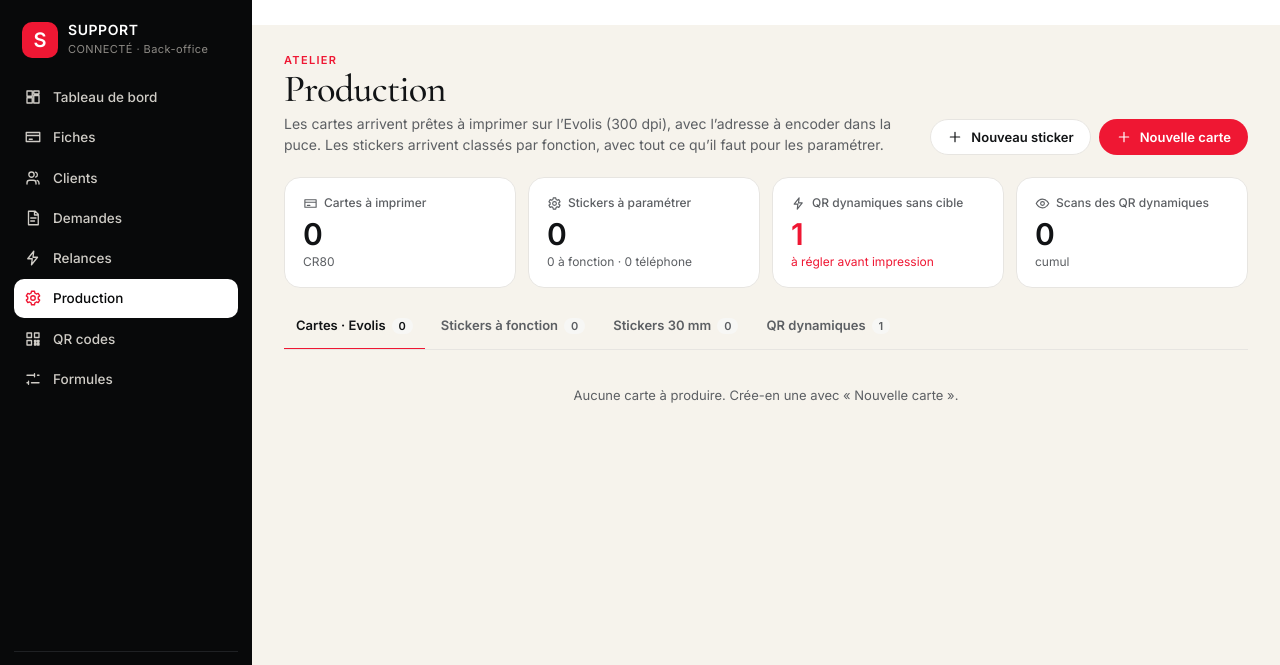
Test: pages du back-office › ouvre les QR codes depuis la production avec le lien dynamique prérempli
This screenshot has width=1280, height=665.
Click the tab "QR dynamiques 1" at (828,327), box [754,304,902,350]
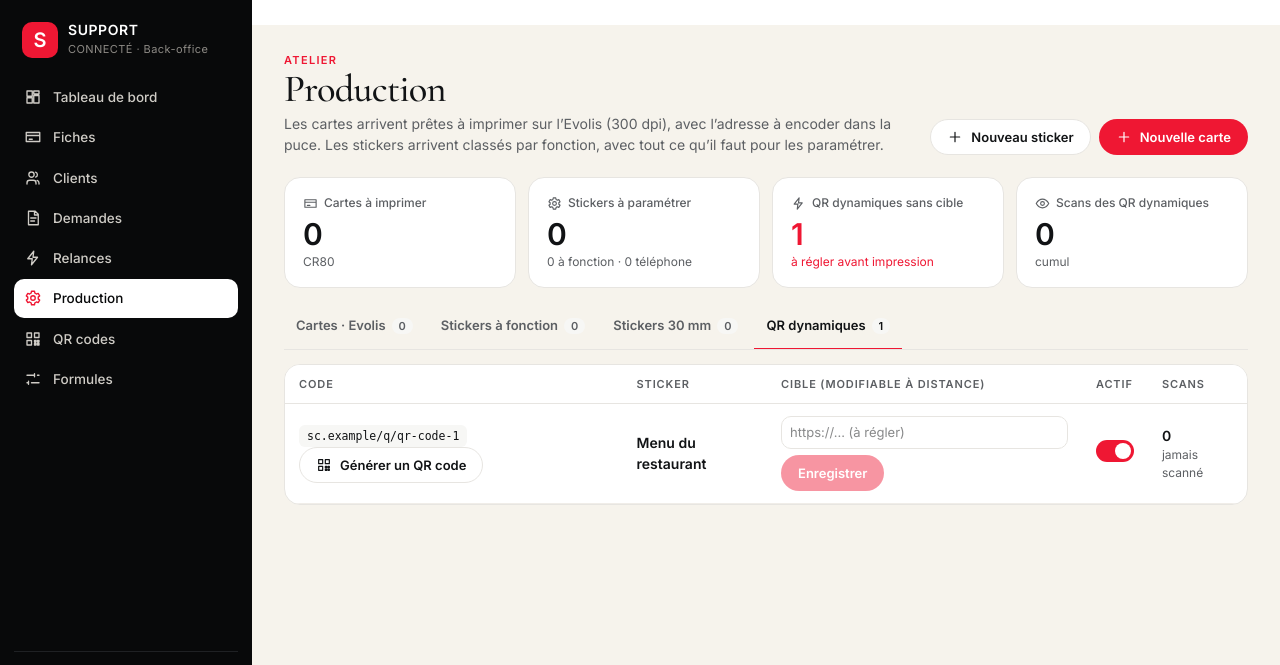
Expected: the text "Menu du restaurant" is shown, [637,434,706,472]
Click the link "Générer un QR code" at (391,465), box [299,447,483,483]
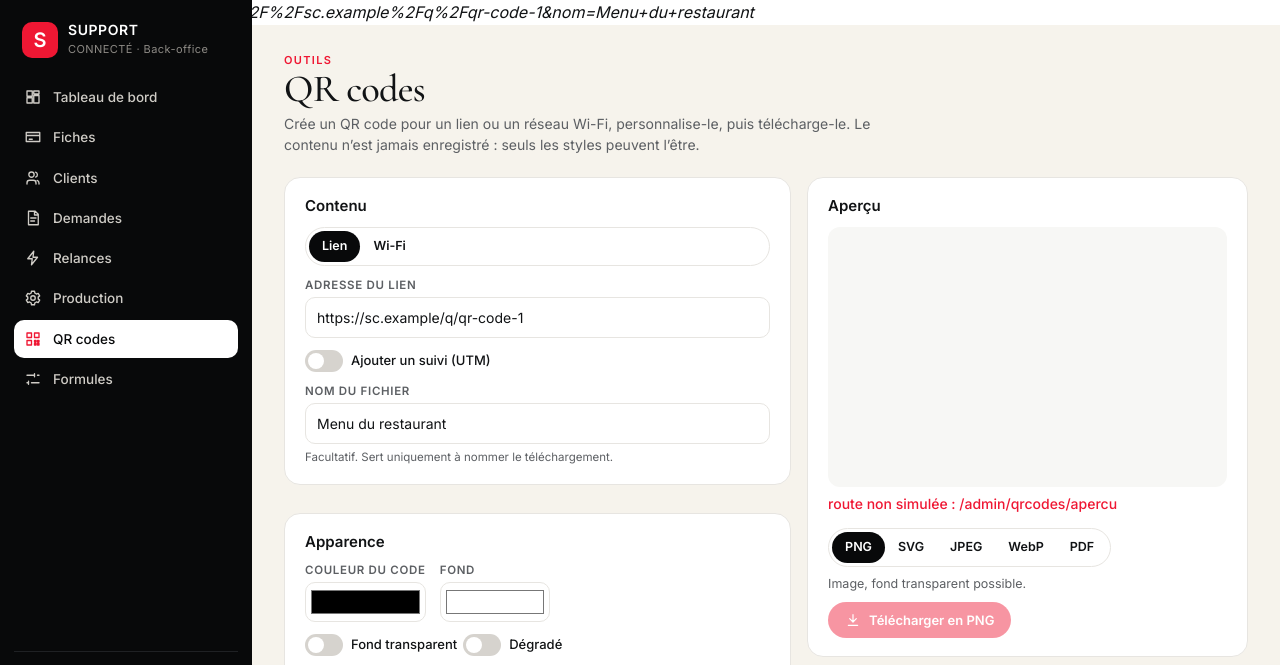
Expected: the text with test id "where" shows "/admin/qrcodes?url=", [0,2,754,22]
Expected: the field labelled "Adresse du lien" holds "https://sc.example/q/qr-code-1", [305,297,770,338]
Expected: the field with placeholder "flyer-salon" holds "Menu du restaurant", [305,403,770,444]
